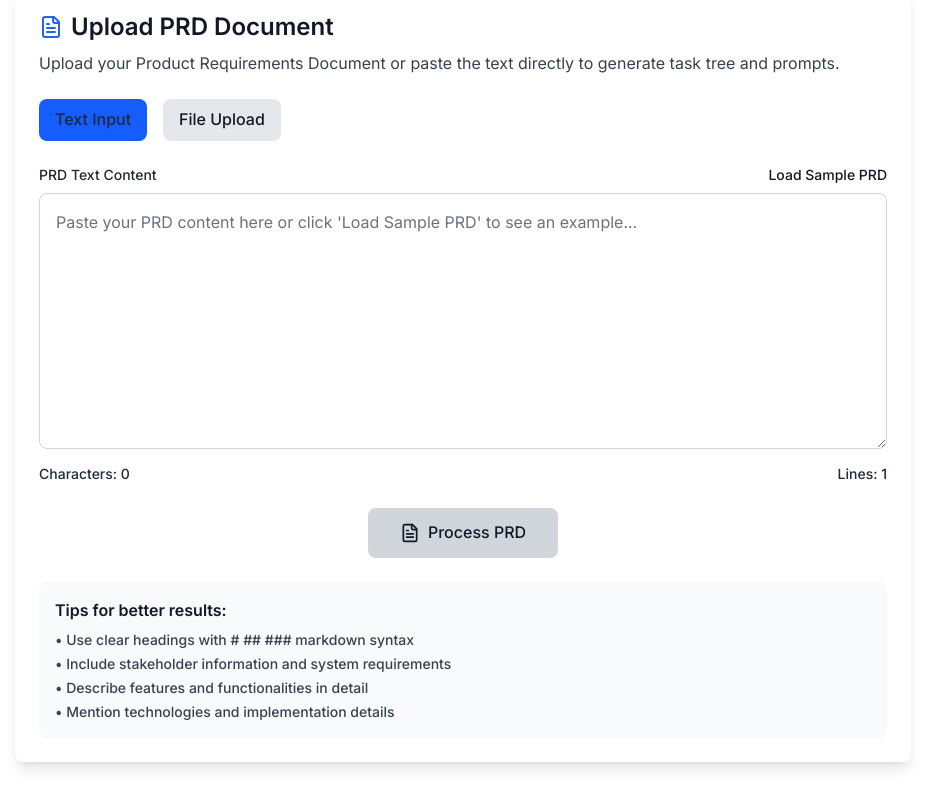
Test: PrdUpload Component › Method Selection › switches to file upload mode when file upload button is clicked
Click the button "File Upload": [222, 120] box [163,99,281,141]
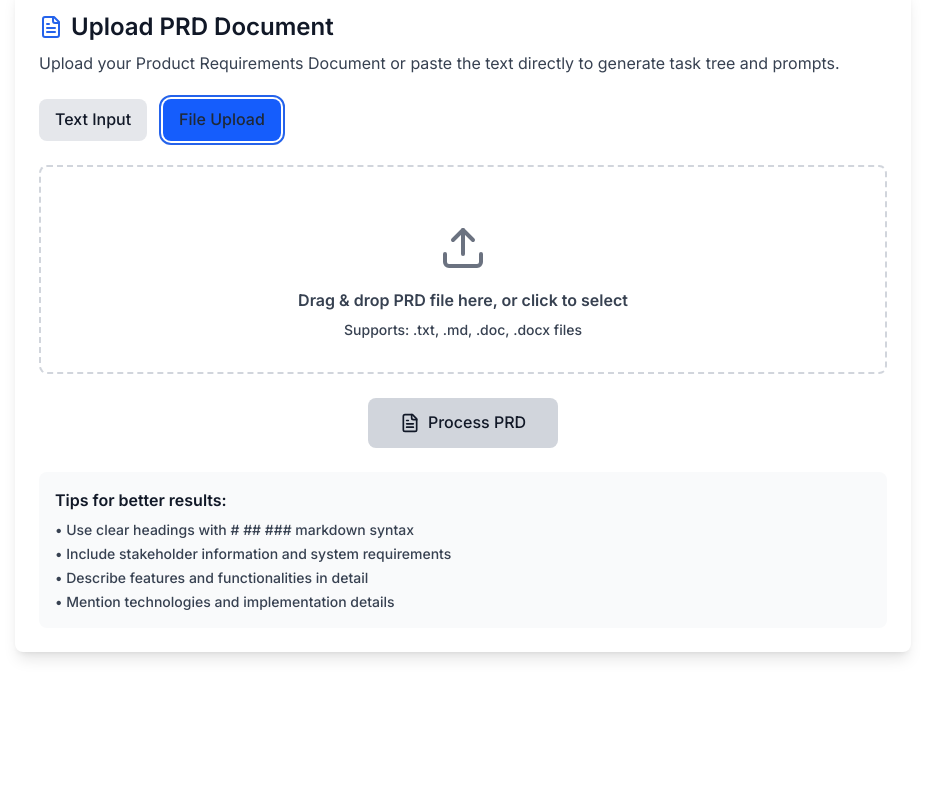
Check: the text "Drag & drop PRD file here, or click to select" is shown, box [298,290,628,310]
Check: the text "Supports: .txt, .md, .doc, .docx files" is shown, box [344,321,582,338]
